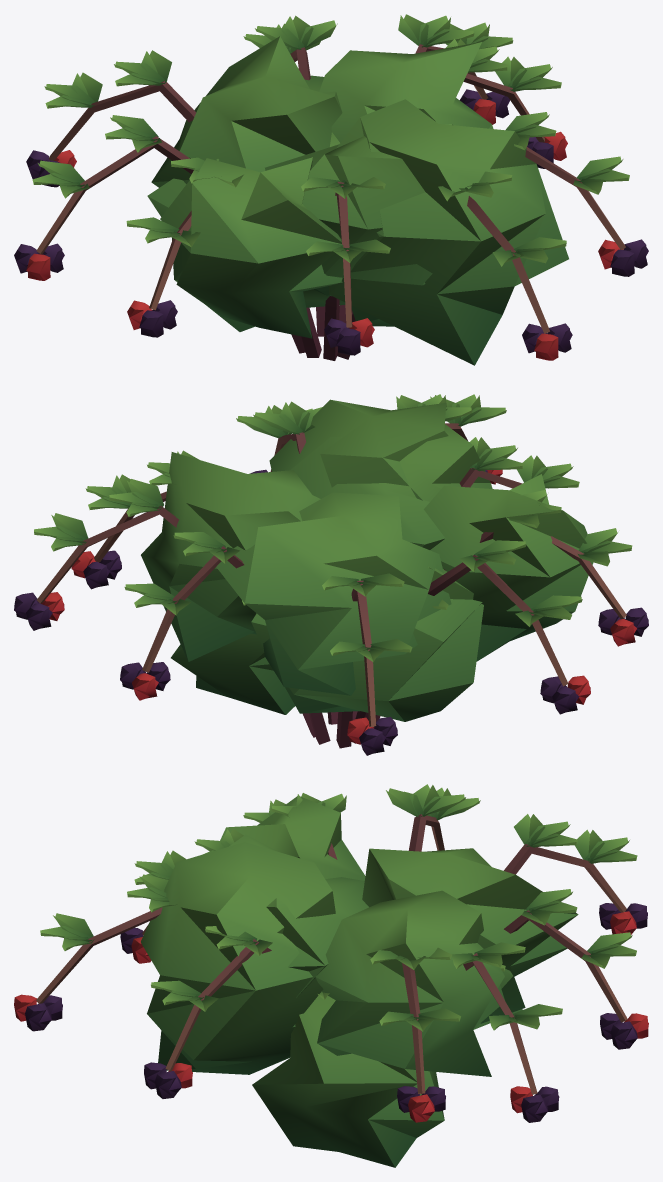
Rendered from bramble.glb.
The picture shows the model from 3 angles, top to bottom: view 1: azimuth 30°, elevation 25°; view 2: azimuth 150°, elevation 25°; view 3: azimuth 270°, elevation 25°; orthographic projection. The views are drawn at different scales.
Parts seen in each view (by area): view 1: bramble; view 2: bramble; view 3: bramble.
Part boxes in pixels (left/top/right/bottom): bramble: left=14, top=14, right=648, bottom=365; bramble: left=14, top=394, right=648, bottom=755; bramble: left=14, top=784, right=648, bottom=1167.
Size of the model in its own units: 1.29 by 0.615 by 1.36.
